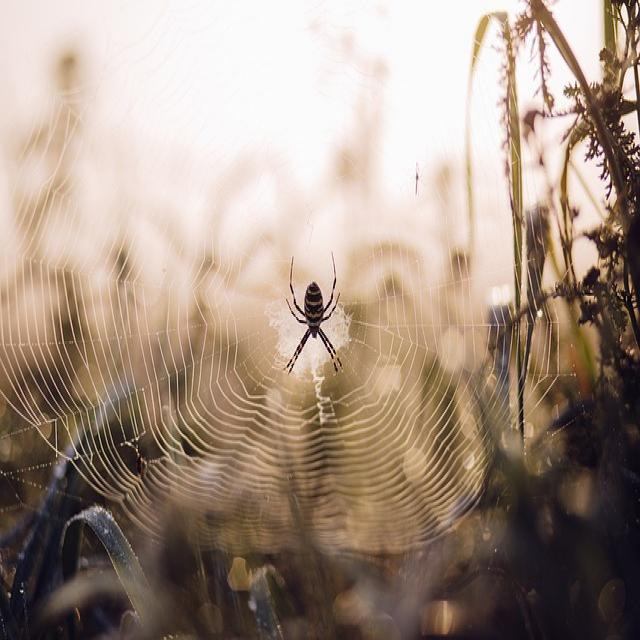spyder: (285, 278, 341, 373)
